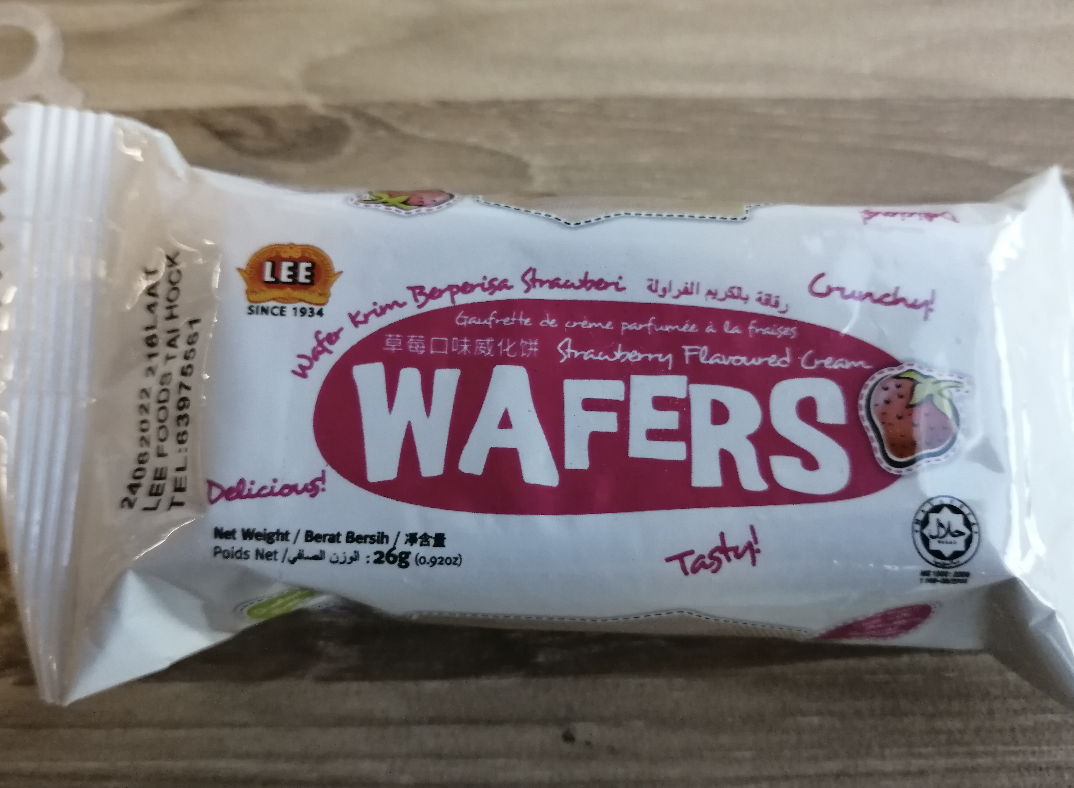Halal: (924, 505, 976, 556)
